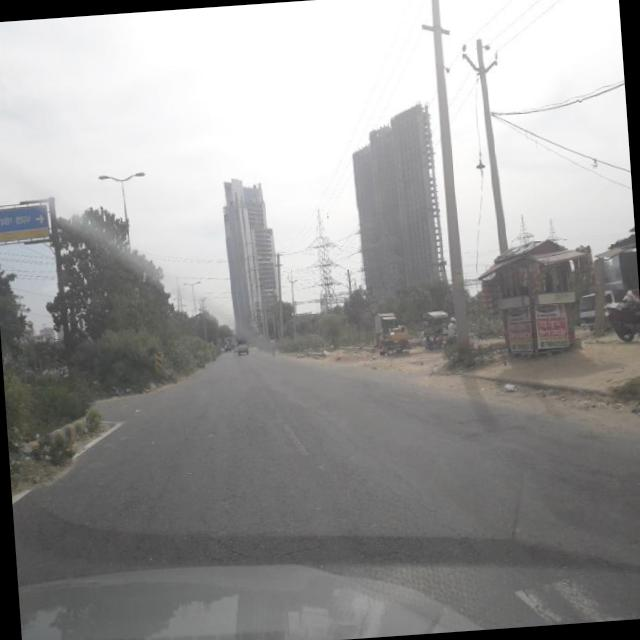crack: (31, 407, 484, 575)
